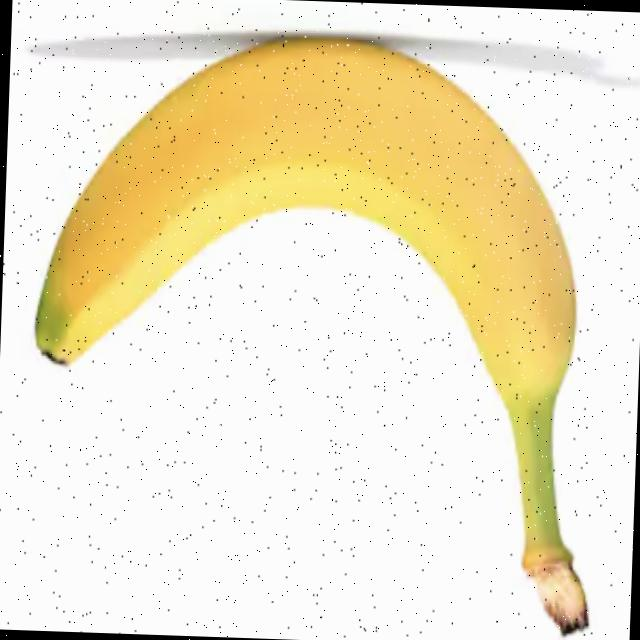banana: (20, 24, 608, 636)
